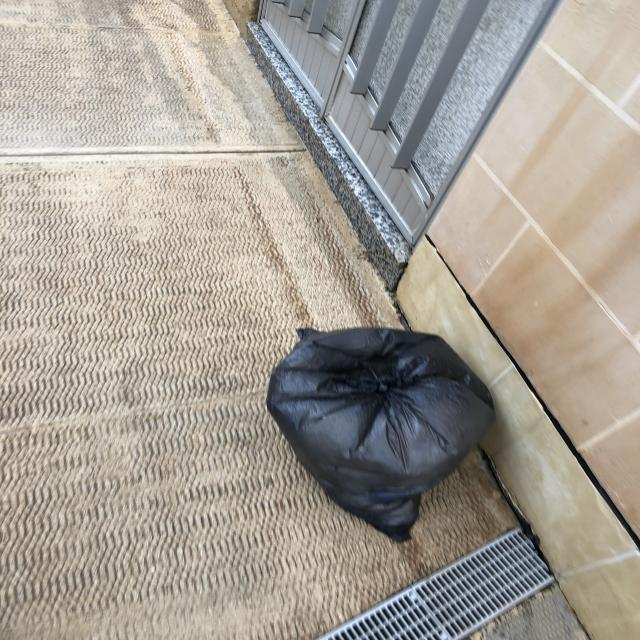Mixed Waste -Black Bag-: (269, 329, 499, 543)
